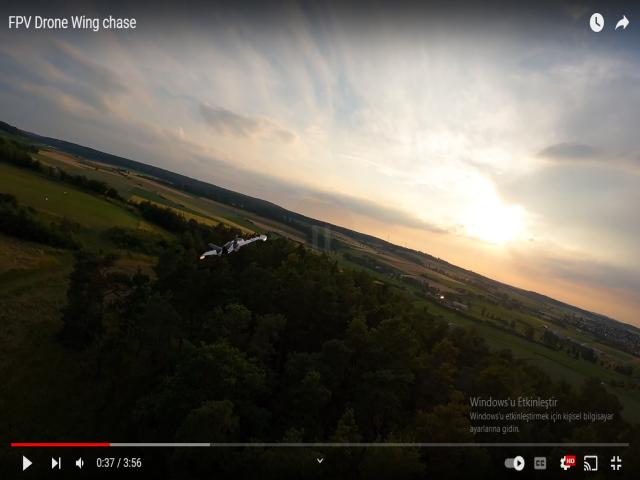plane: (199, 233, 266, 261)
